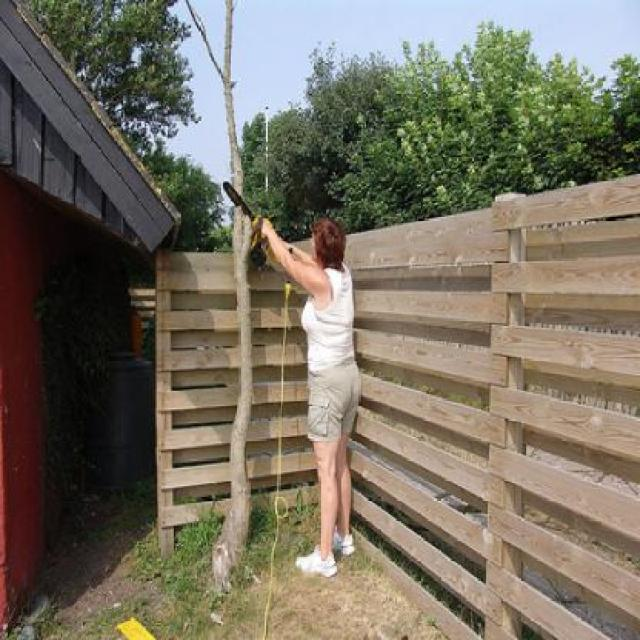Chainsaw: (222, 179, 273, 273)
